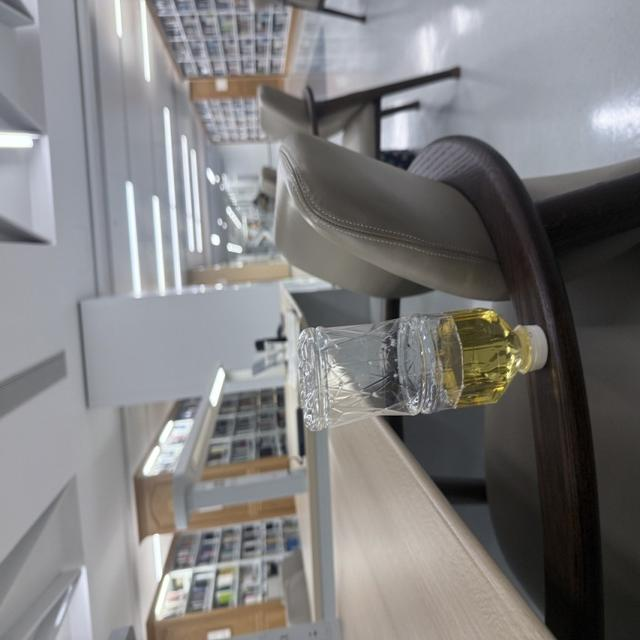low: (299, 309, 548, 430)
